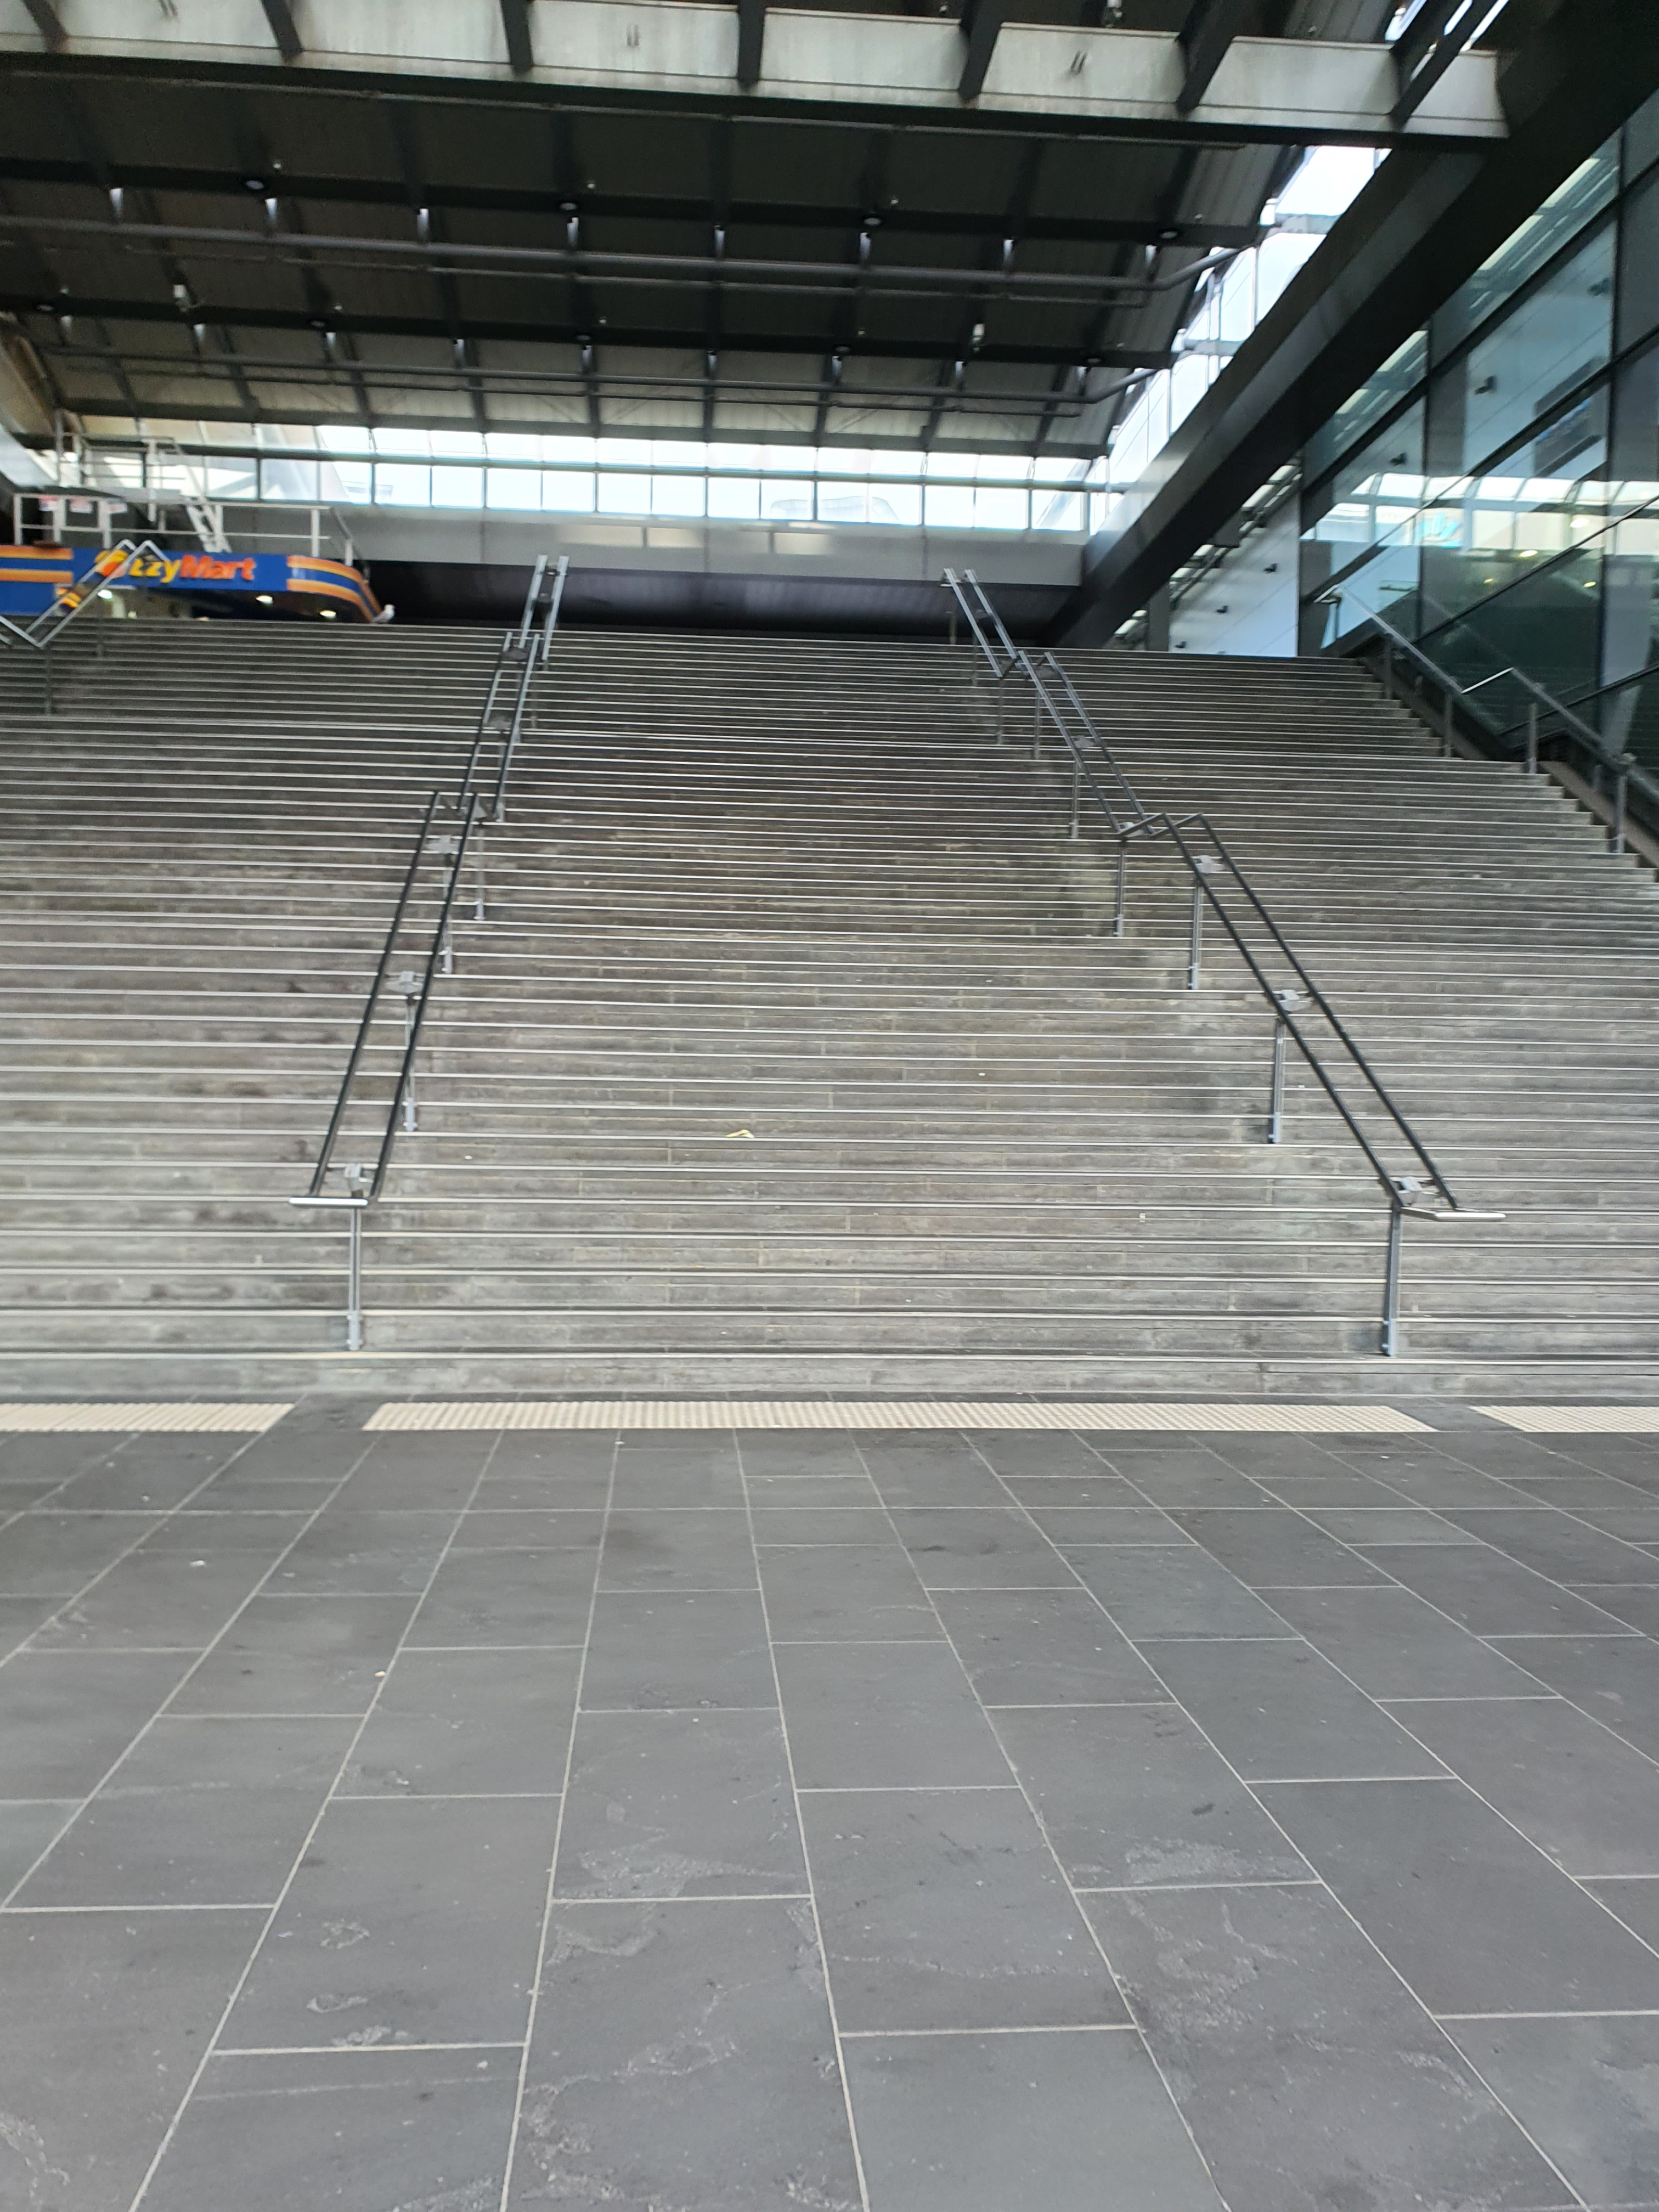upstairs: (420, 1137, 1281, 1456)
